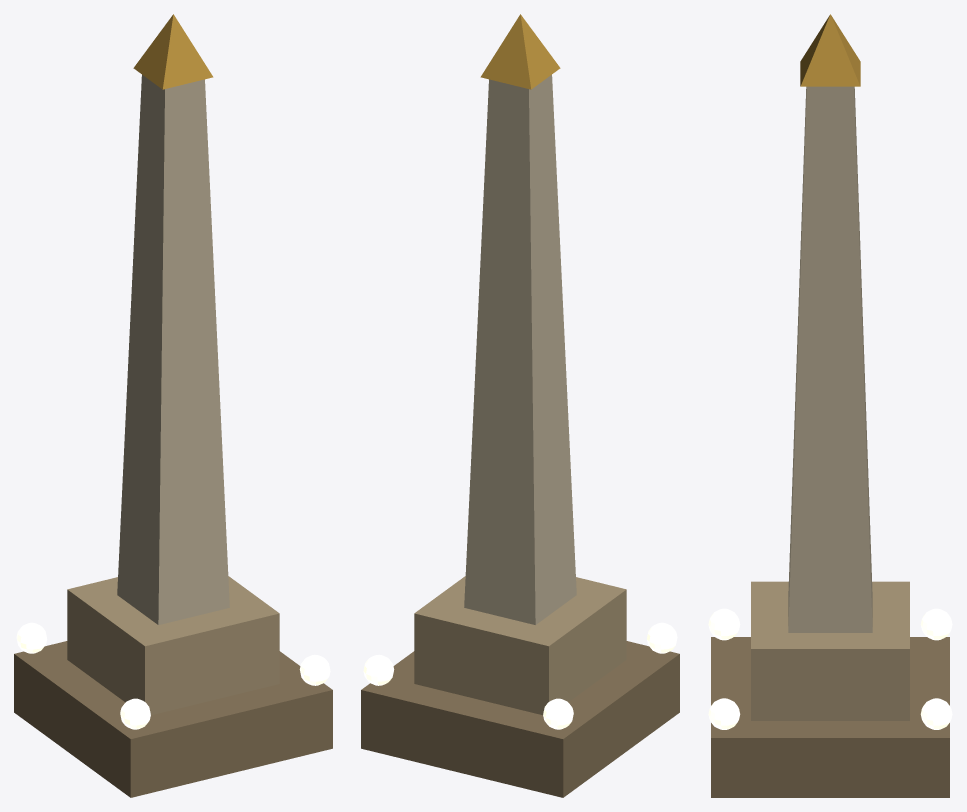
File: region-island.glb
3 renders of one model, left to right at view 1: azimuth 30°, elevation 25°; view 2: azimuth 150°, elevation 25°; view 3: azimuth 270°, elevation 25°, orthographic. The views are drawn at different scales.
Visible parts, largest first — view 1: cw_paint, cw_glow; view 2: cw_paint, cw_glow; view 3: cw_paint, cw_glow.
Part boxes in pixels (left/top/right/bottom): cw_paint: left=14, top=14, right=332, bottom=797; cw_glow: left=16, top=622, right=330, bottom=729; cw_paint: left=361, top=14, right=679, bottom=797; cw_glow: left=363, top=622, right=677, bottom=729; cw_paint: left=711, top=14, right=949, bottom=797; cw_glow: left=708, top=608, right=952, bottom=729.
Size of the model in its own units: 1.83 by 6.1 by 1.84.
